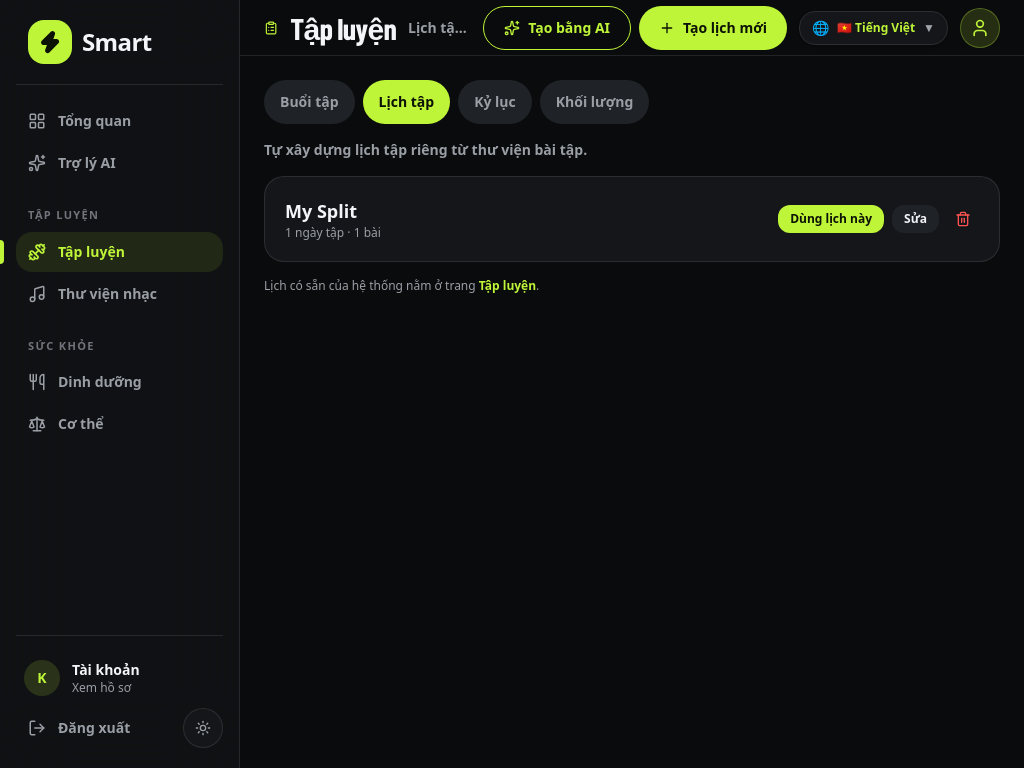
Test: Routines: using, deleting › "use" makes it the active routine and refreshes the profile
Click the button "Dùng lịch này" at (831, 219), box [778,205,884,233]
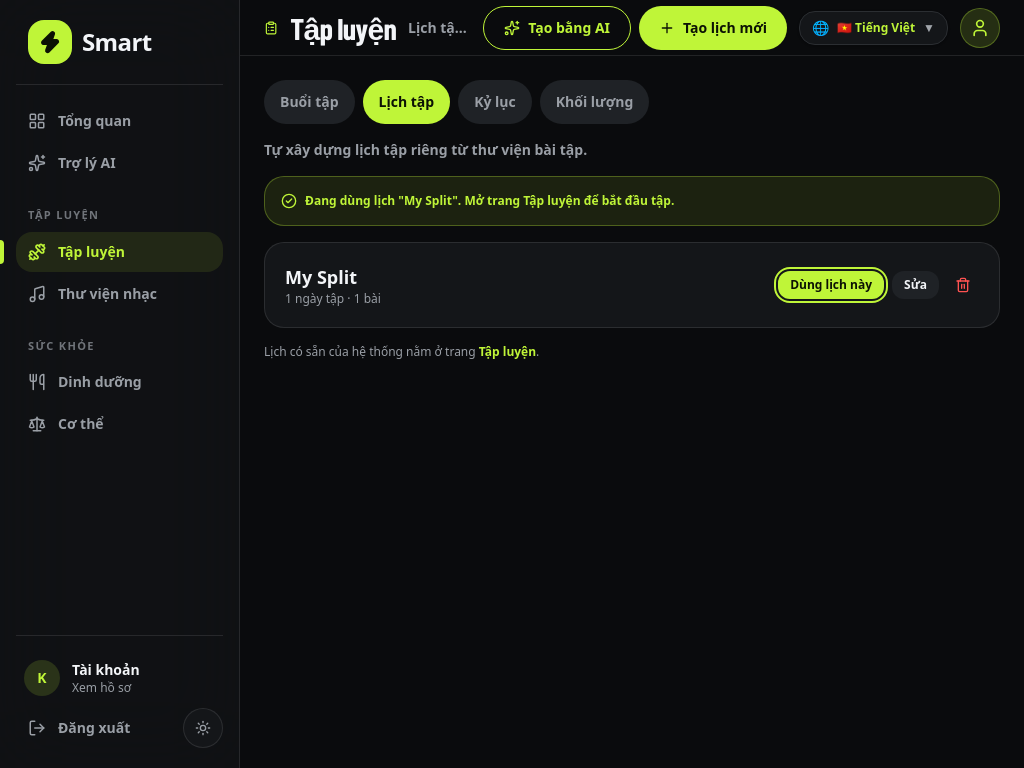
Expected: the message shows "Đang dùng lịch \"My Split\"", [305,192,674,209]
